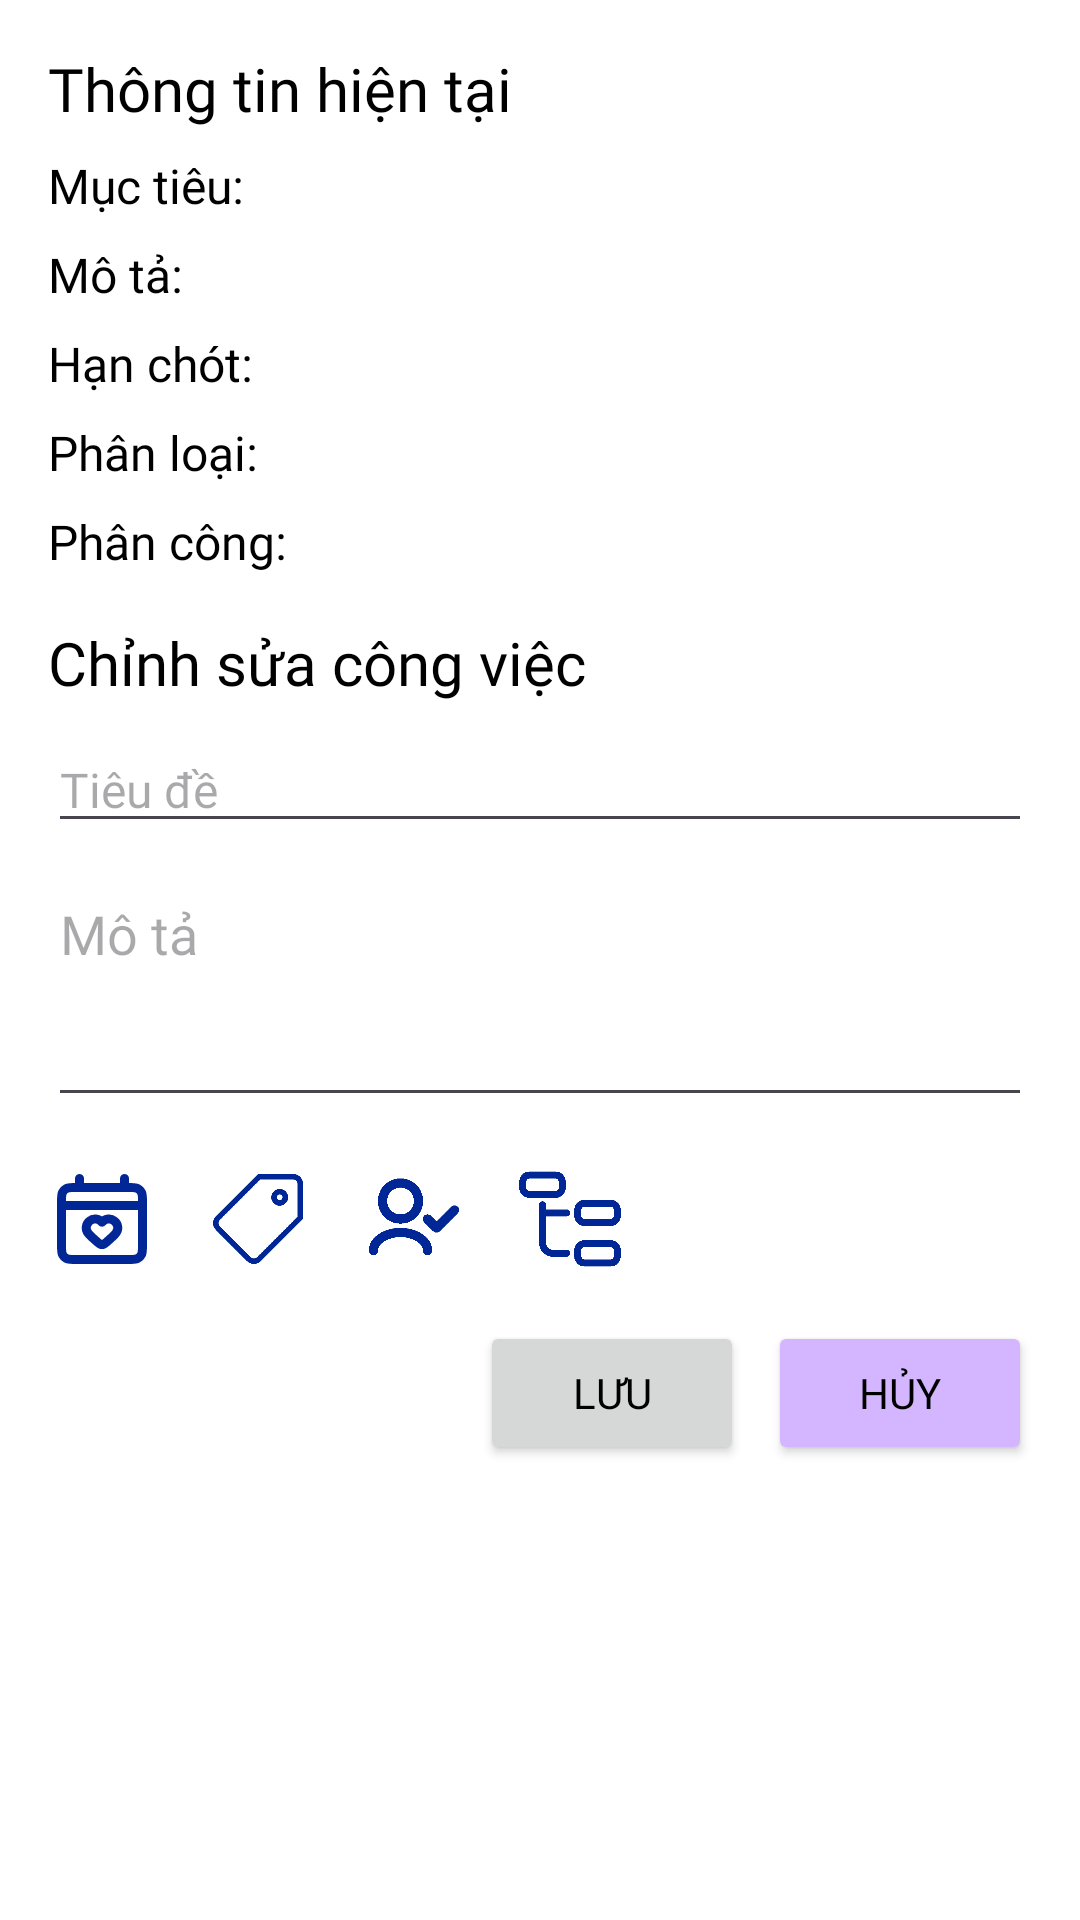

Where to tap for icons on this 1080 × 1920 app screen, as [x,y]:
login calendar: [102,1219]
todolist add task assignment: [414,1216]
todolist add task category: [258,1219]
todolist add task subtask: [570,1219]
